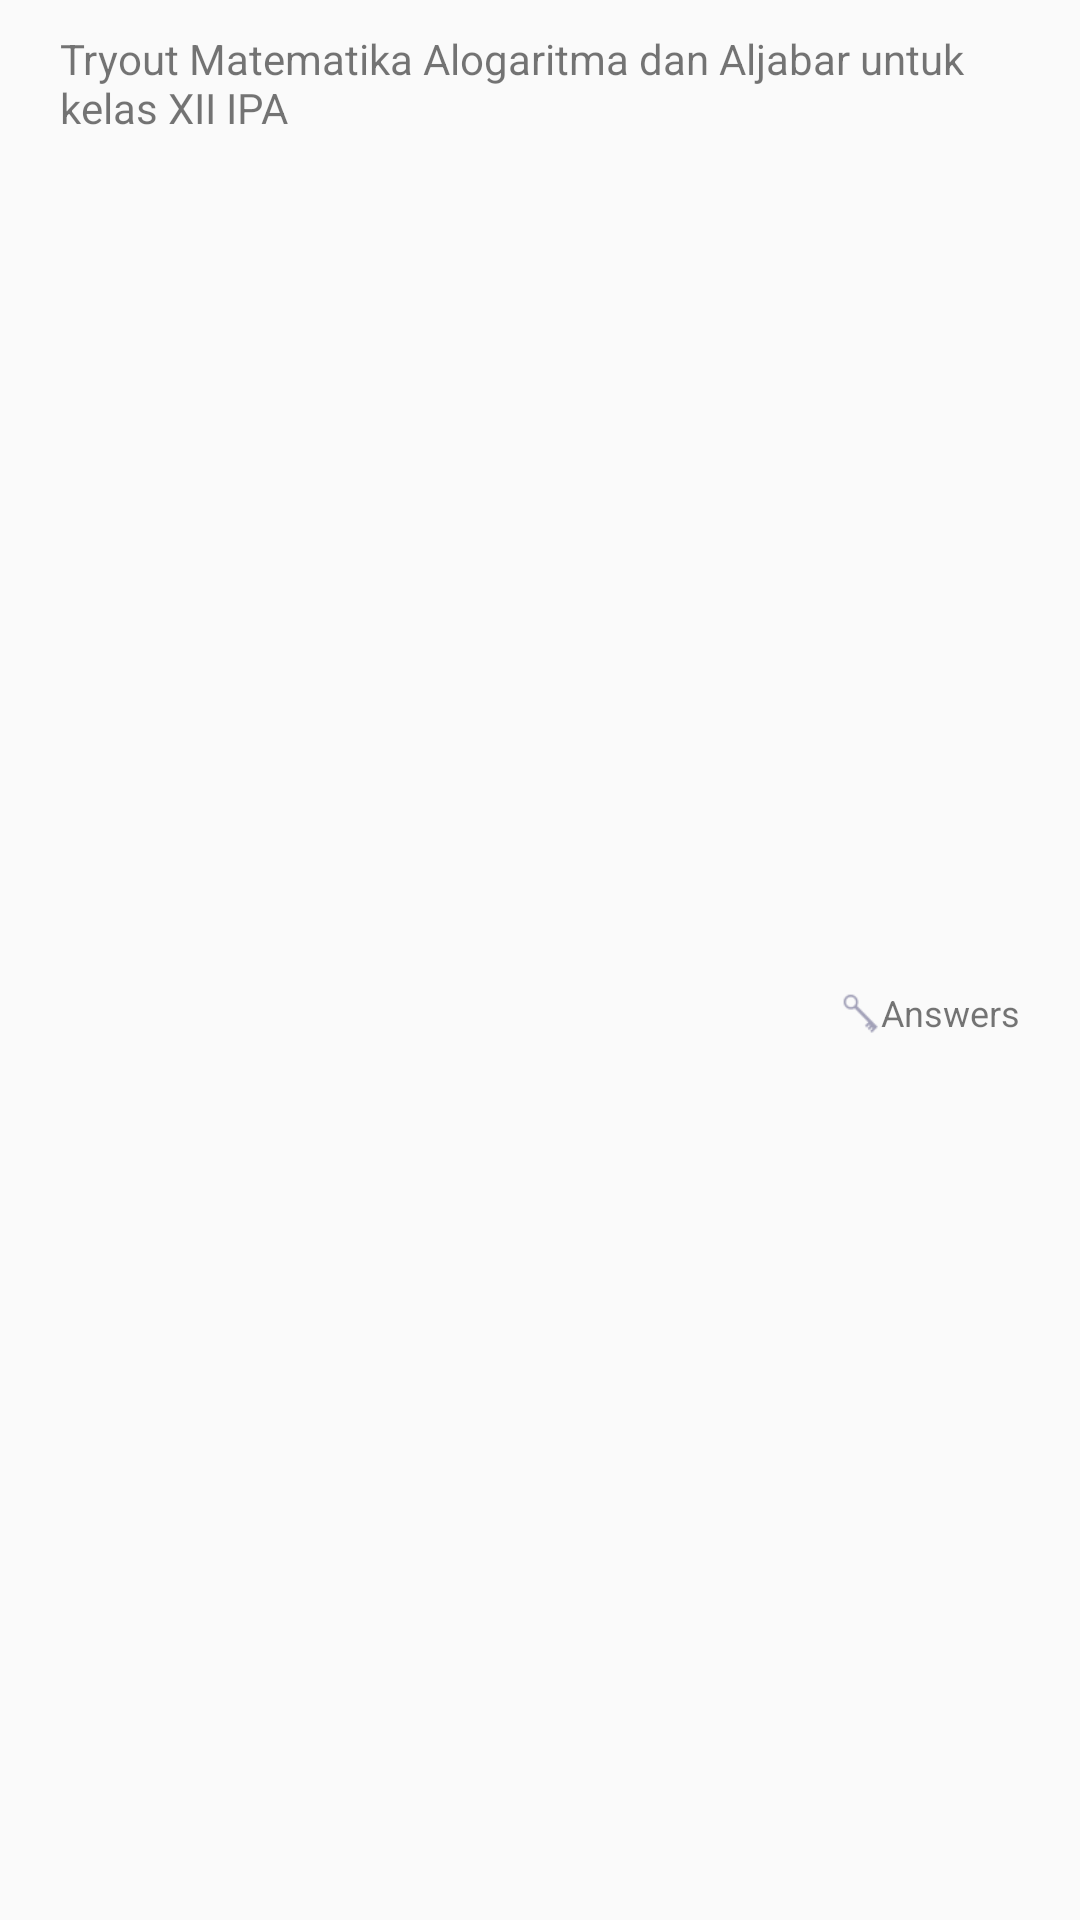

Icon bounding boxes for this 1080x1920 phone screenshot, format [left=x1, top=y1, right=x2, bottom=y2]:
tryout key: [left=843, top=994, right=878, bottom=1033]
